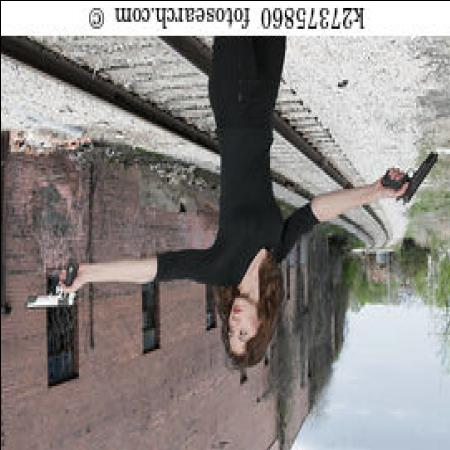Pistol: (378, 147, 441, 206), (25, 264, 80, 310)
